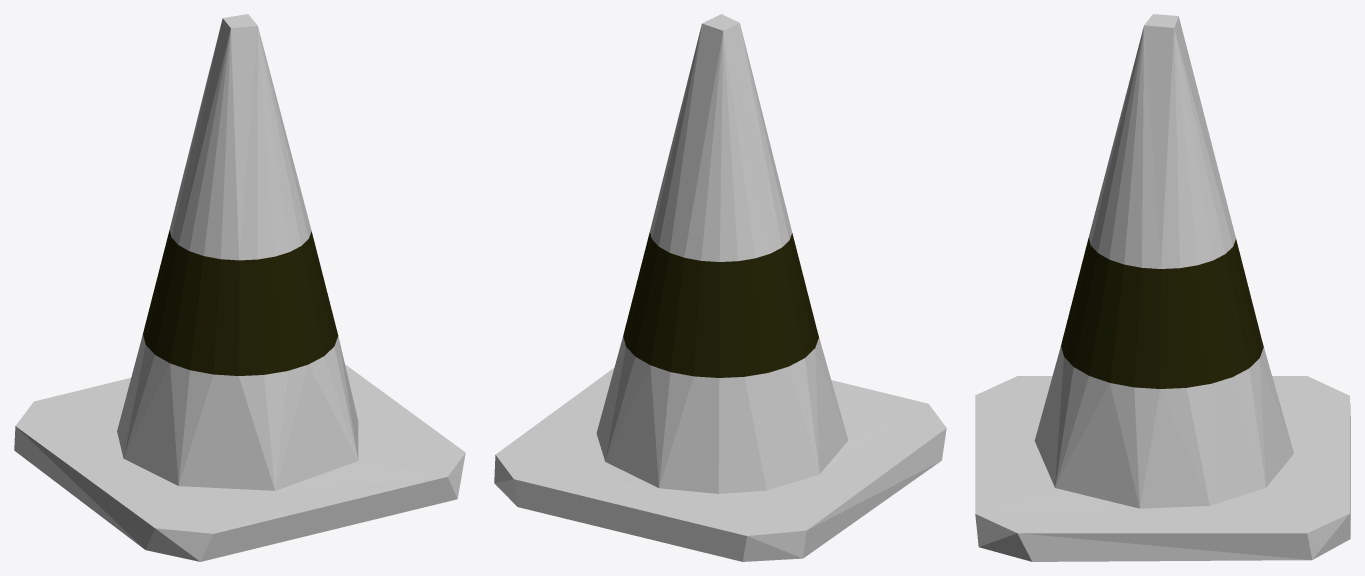
The model's file is cone_gray.dae.
3 views of the same model, side by side, from view 1: azimuth 30°, elevation 25°; view 2: azimuth 150°, elevation 25°; view 3: azimuth 270°, elevation 25° (orthographic). The views are drawn at different scales.
Parts seen in each view (by area): view 1: node; view 2: node; view 3: node.
Boxes of the visible parts, x1,y1,x2,y2 form: node: (14, 14, 465, 561); node: (494, 14, 946, 561); node: (975, 14, 1350, 561).
Size of the model in its own units: 0.2254 by 0.224 by 0.3034.
